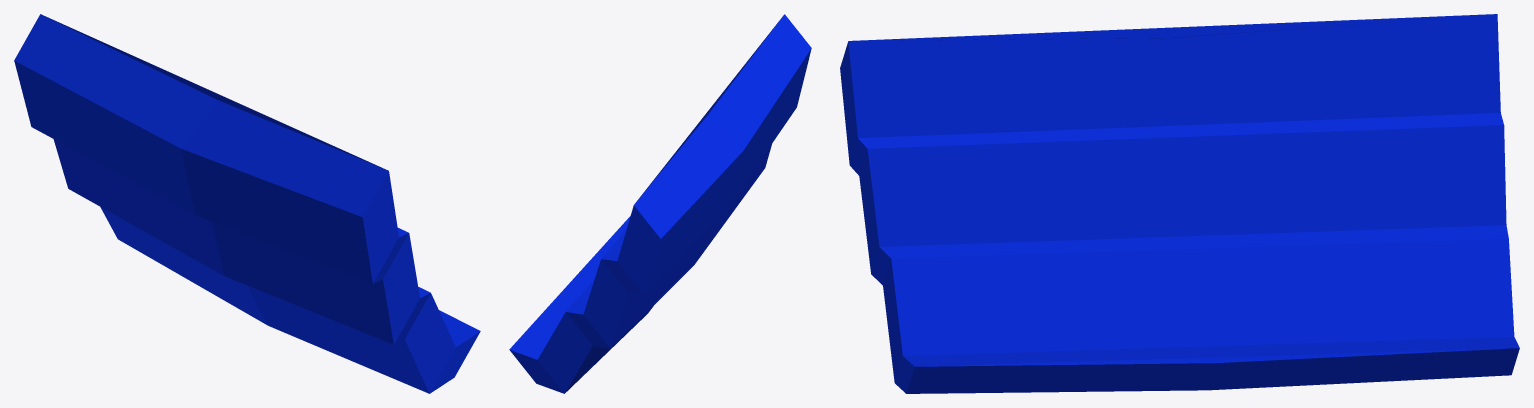
The model's file is Bote Taller_pieza2.fbx.
The picture shows the model from 3 angles, left to right: view 1: azimuth 30°, elevation 25°; view 2: azimuth 150°, elevation 25°; view 3: azimuth 270°, elevation 25°; orthographic projection. The views are drawn at different scales.
Visible parts, largest first — view 1: BaseBote.003; view 2: BaseBote.003; view 3: BaseBote.003.
Part boxes in pixels (box(x1,y1,x2,y2)): BaseBote.003: box(14, 14, 480, 393); BaseBote.003: box(509, 14, 811, 393); BaseBote.003: box(840, 14, 1519, 393).
Size of the model in its own units: 75.86 by 83.45 by 159.
